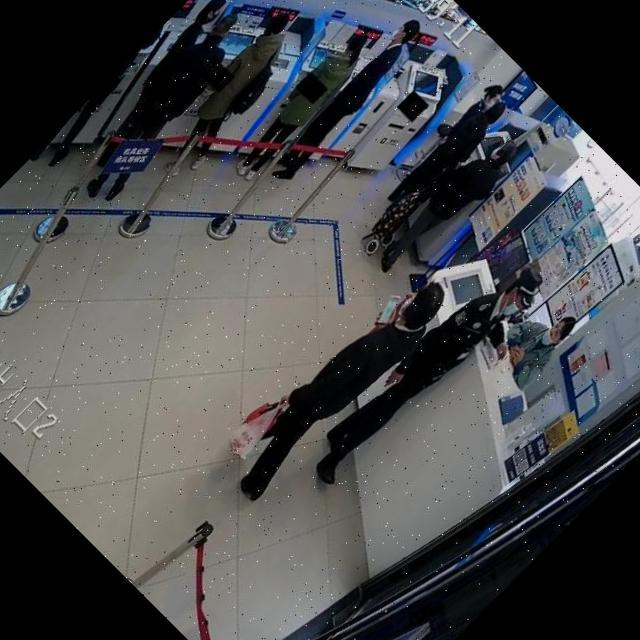person: (297, 246, 563, 512), (213, 262, 460, 510), (62, 4, 267, 209), (259, 12, 435, 188), (146, 8, 319, 182), (32, 9, 196, 173), (74, 0, 242, 159), (364, 125, 526, 288), (221, 25, 382, 186), (34, 14, 190, 169), (375, 91, 512, 228), (482, 288, 587, 393), (448, 82, 507, 141)
